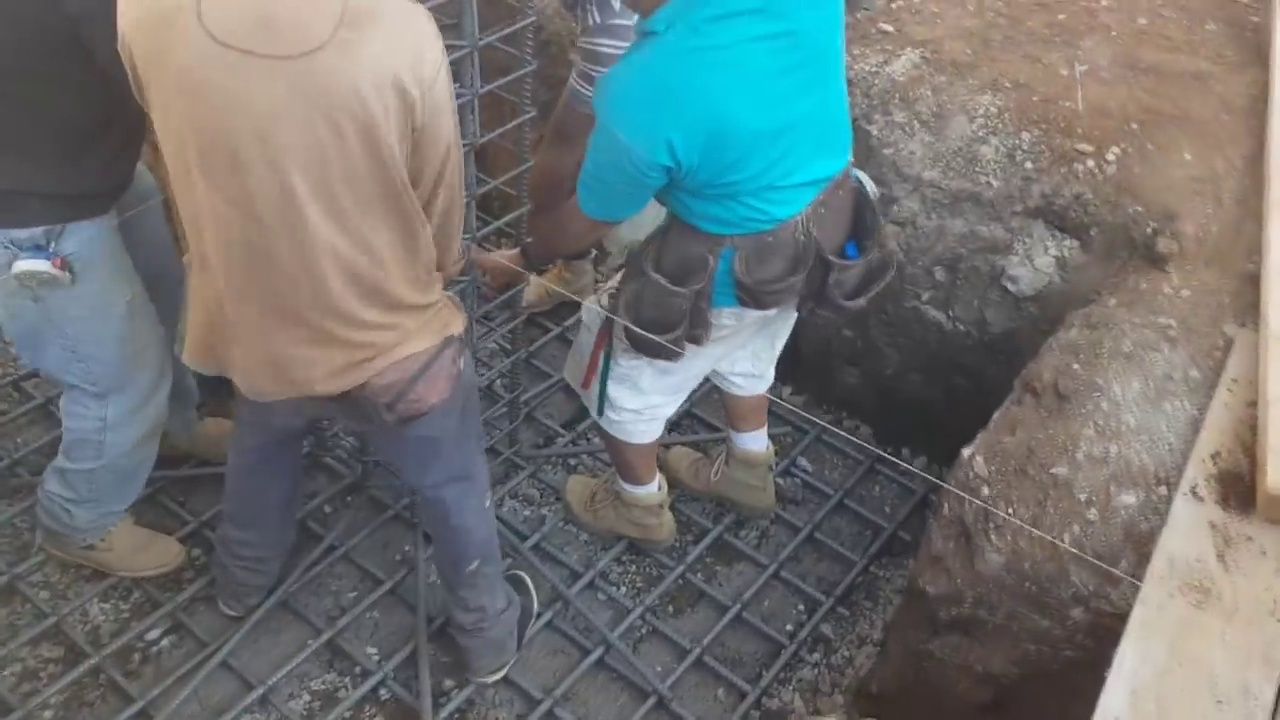person: (115, 0, 535, 695), (482, 0, 883, 553), (0, 0, 187, 599), (512, 4, 646, 219)
